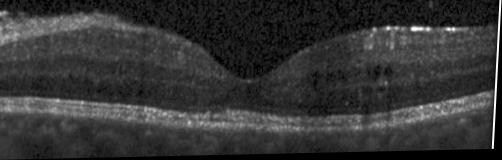intraretinal_cyst: (309, 71, 326, 94), (357, 87, 373, 99), (373, 66, 382, 83), (326, 73, 338, 84), (338, 71, 348, 84), (376, 87, 388, 95), (384, 69, 389, 78), (389, 68, 395, 75), (367, 69, 371, 77)
